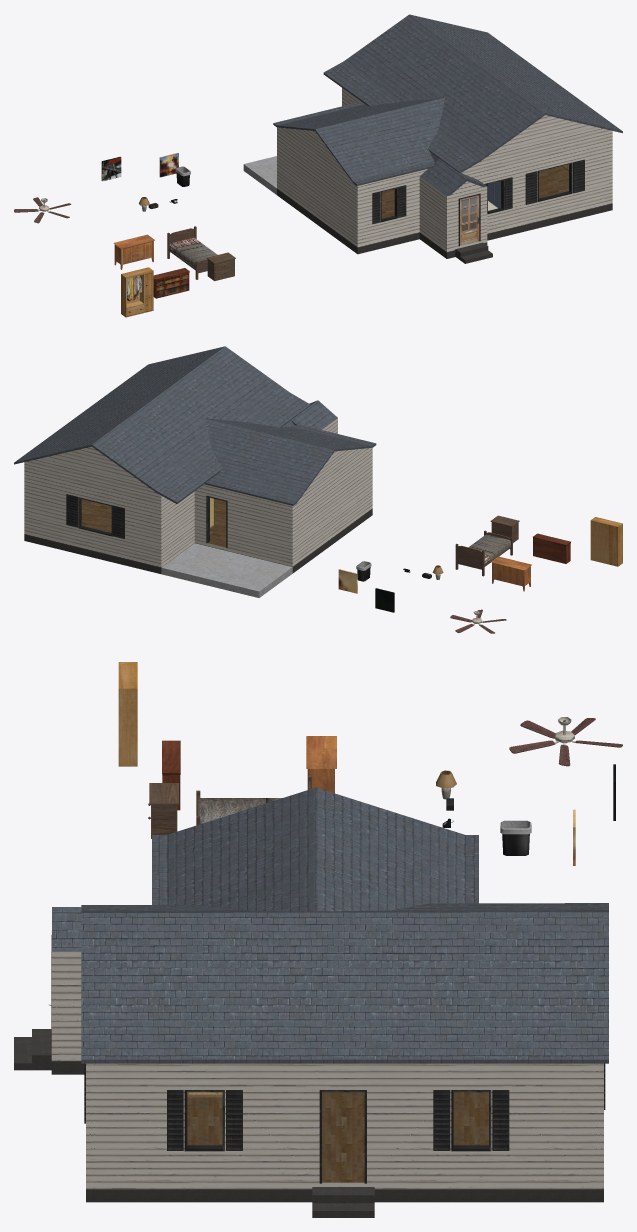
File: House.glb
The picture shows the model from 3 angles, top to bottom: view 1: azimuth 30°, elevation 25°; view 2: azimuth 150°, elevation 25°; view 3: azimuth 270°, elevation 25°; orthographic projection. The views are drawn at different scales.
Visible parts, largest first — view 1: House_Demo_001, House_Demo_040, Wardrobe, bed, House_Demo_039, Bookcase, Chest_drawers_05.001, House_Demo_002, Chest_drawers, Painting_04; view 2: House_Demo_040, House_Demo_001, Wardrobe, bed, Chest_drawers_05.001, Bookcase, Chest_drawers, Painting_04, Painting_03; view 3: House_Demo_001, House_Demo_040, Wardrobe, House_Demo_003, Chest_drawers_05.001, Chest_drawers, House_Demo_002, bed, Ceiling_Fan_Blades, House_Demo_026, House_Demo_027, House_Demo_024 (+4 smaller).
Part boxes in pixels (x1,y1,x2,y2): House_Demo_001: [273, 14, 622, 195]; House_Demo_040: [243, 88, 612, 258]; Wardrobe: [121, 267, 153, 317]; bed: [167, 226, 217, 279]; House_Demo_039: [460, 195, 479, 245]; Bookcase: [153, 268, 189, 298]; Chest_drawers_05.001: [113, 234, 154, 269]; House_Demo_002: [455, 242, 492, 263]; Chest_drawers: [206, 252, 235, 281]; Painting_04: [101, 156, 121, 181]; House_Demo_040: [24, 418, 372, 597]; House_Demo_001: [14, 346, 376, 505]; Wardrobe: [590, 517, 622, 566]; bed: [455, 530, 512, 576]; Chest_drawers_05.001: [491, 556, 531, 591]; Bookcase: [533, 533, 570, 563]; Chest_drawers: [490, 515, 519, 542]; Painting_04: [375, 588, 394, 612]; Painting_03: [338, 569, 357, 593]; House_Demo_001: [52, 787, 608, 1063]; House_Demo_040: [51, 931, 603, 1202]; Wardrobe: [118, 662, 137, 766]; House_Demo_003: [312, 1187, 374, 1217]; Chest_drawers_05.001: [306, 736, 336, 793]; Chest_drawers: [149, 783, 178, 838]; House_Demo_002: [14, 1029, 51, 1070]; bed: [196, 775, 311, 825]; Ceiling_Fan_Blades: [509, 718, 622, 766]; House_Demo_026: [433, 1090, 450, 1150]; House_Demo_027: [492, 1090, 509, 1150]; House_Demo_024: [167, 1090, 183, 1150].
Size of the model in its own units: 24.91 by 5.52 by 13.59.
23 materials, 23 textured.
